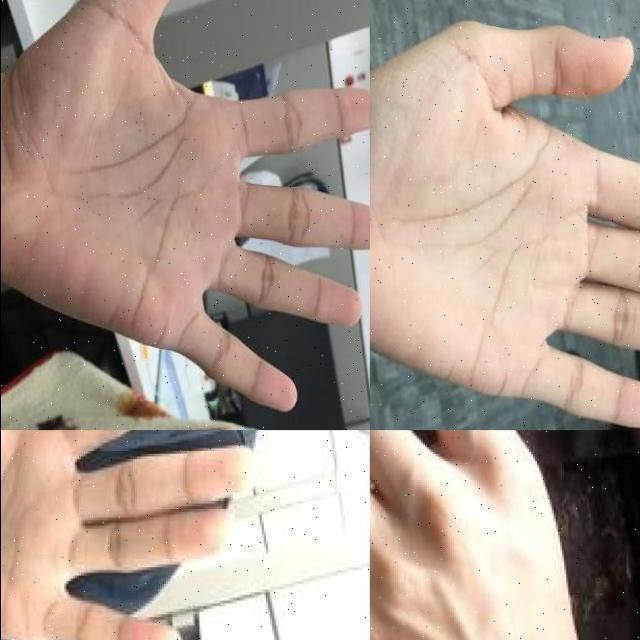hand: (0, 0, 369, 410), (369, 23, 640, 429), (0, 430, 256, 640), (369, 430, 607, 640)
